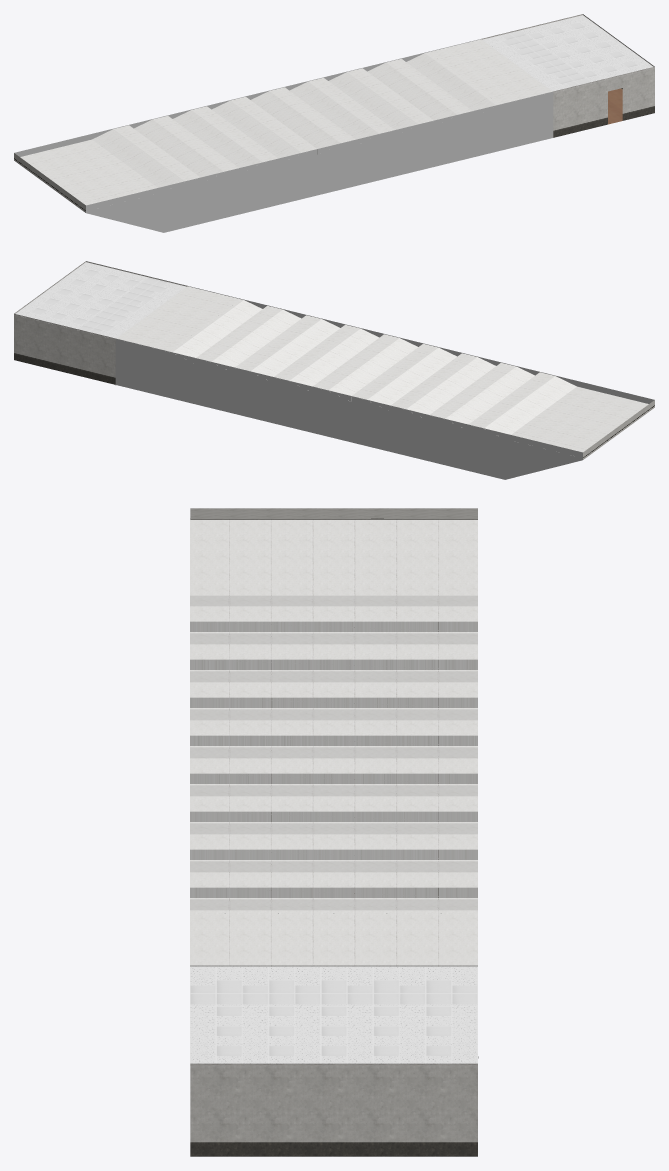
The model's file is ShootingRange01.FBX.
3 renders of one model, top to bottom at view 1: azimuth 30°, elevation 25°; view 2: azimuth 150°, elevation 25°; view 3: azimuth 270°, elevation 25°, orthographic. The views are drawn at different scales.
Visible parts, largest first — view 1: Tirroom; view 2: Tirroom; view 3: Tirroom.
Boxes of the visible parts, x1,y1,x2,y2 form: Tirroom: (14,14,654,232); Tirroom: (14,261,654,479); Tirroom: (190,508,478,1156).
Size of the model in its own units: 1439 by 112 by 316.
